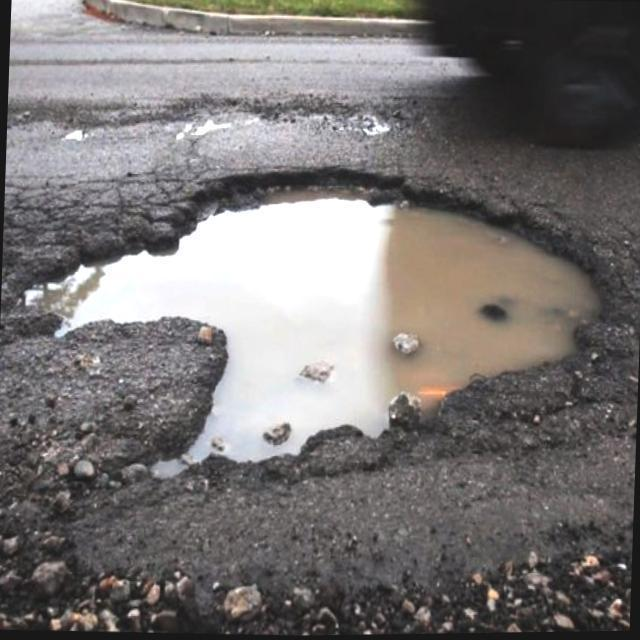Pothole: (18, 164, 609, 481)
